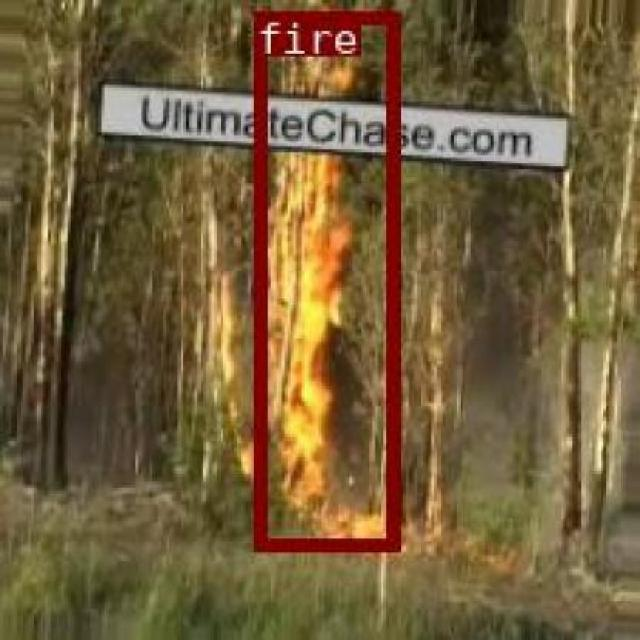Fire: (252, 10, 398, 550)
